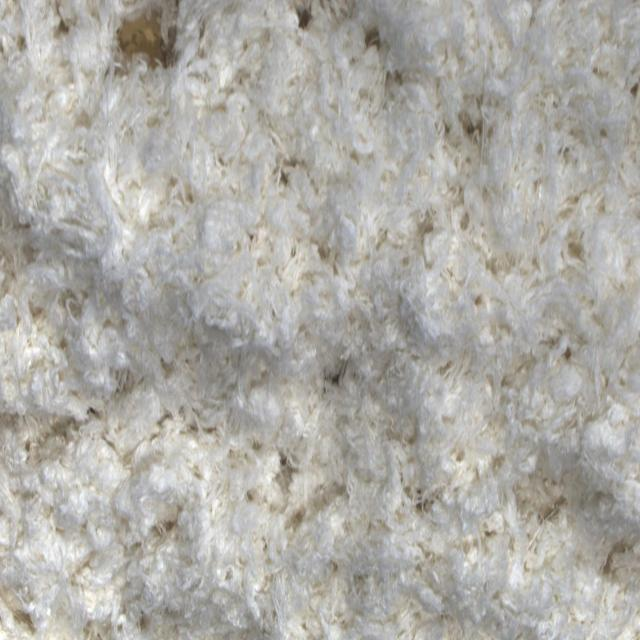dust: (119, 8, 175, 66)
